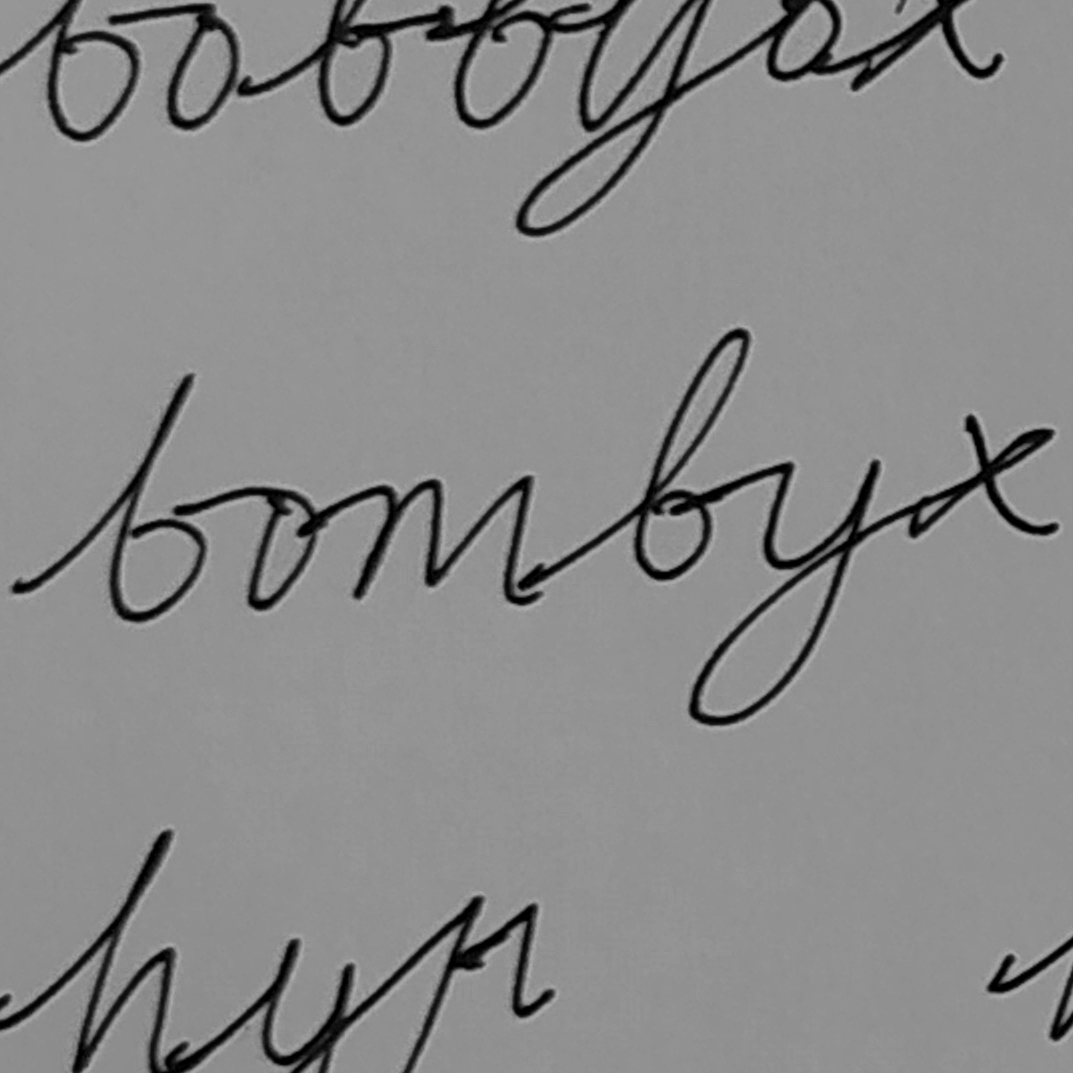b: (627, 322, 754, 585), (99, 370, 211, 627)
m: (345, 470, 543, 608)
o: (242, 482, 323, 614)
x: (903, 409, 1064, 547)
y: (683, 454, 885, 732)
